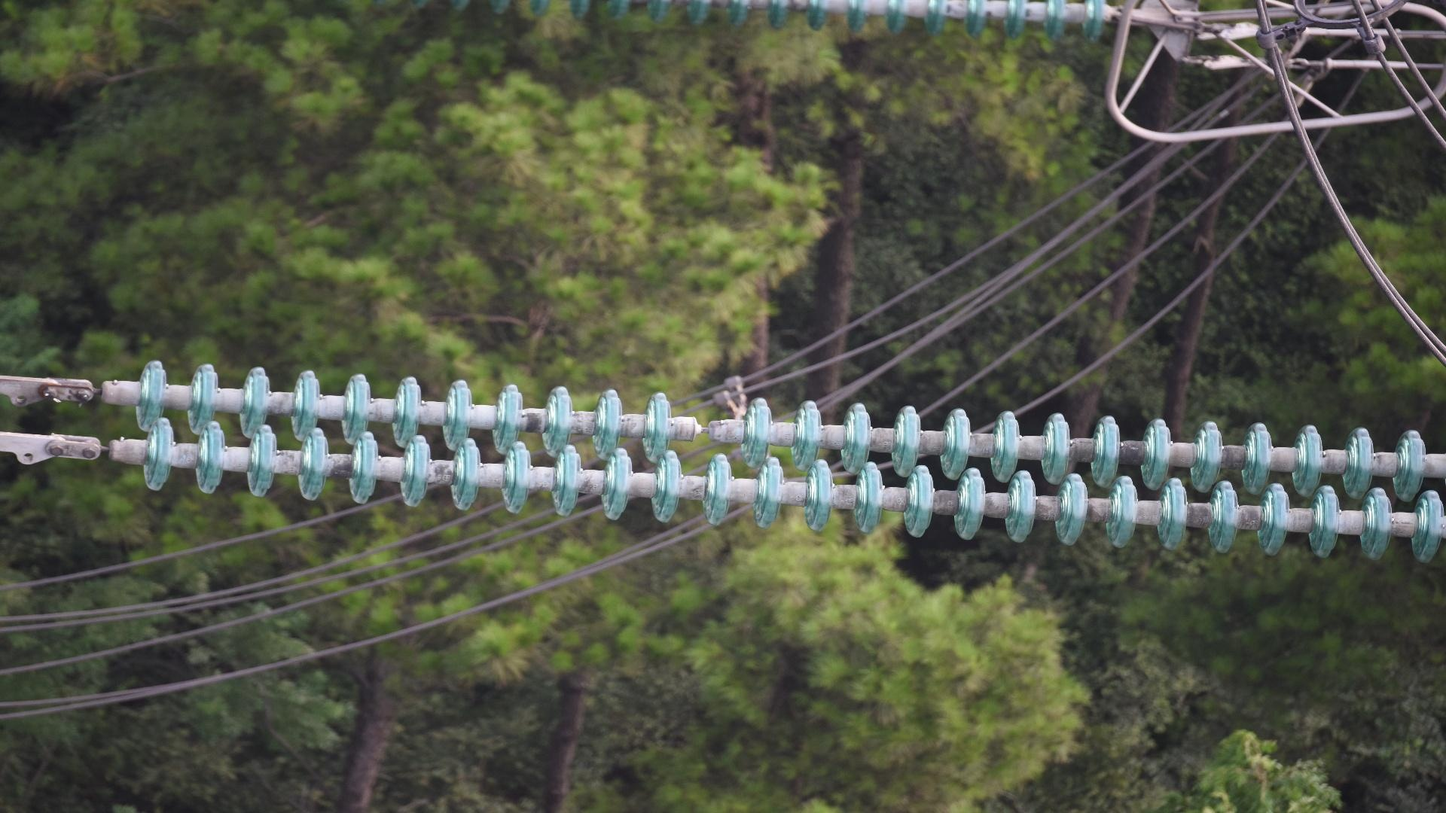insulator: (128, 352, 1446, 570)
